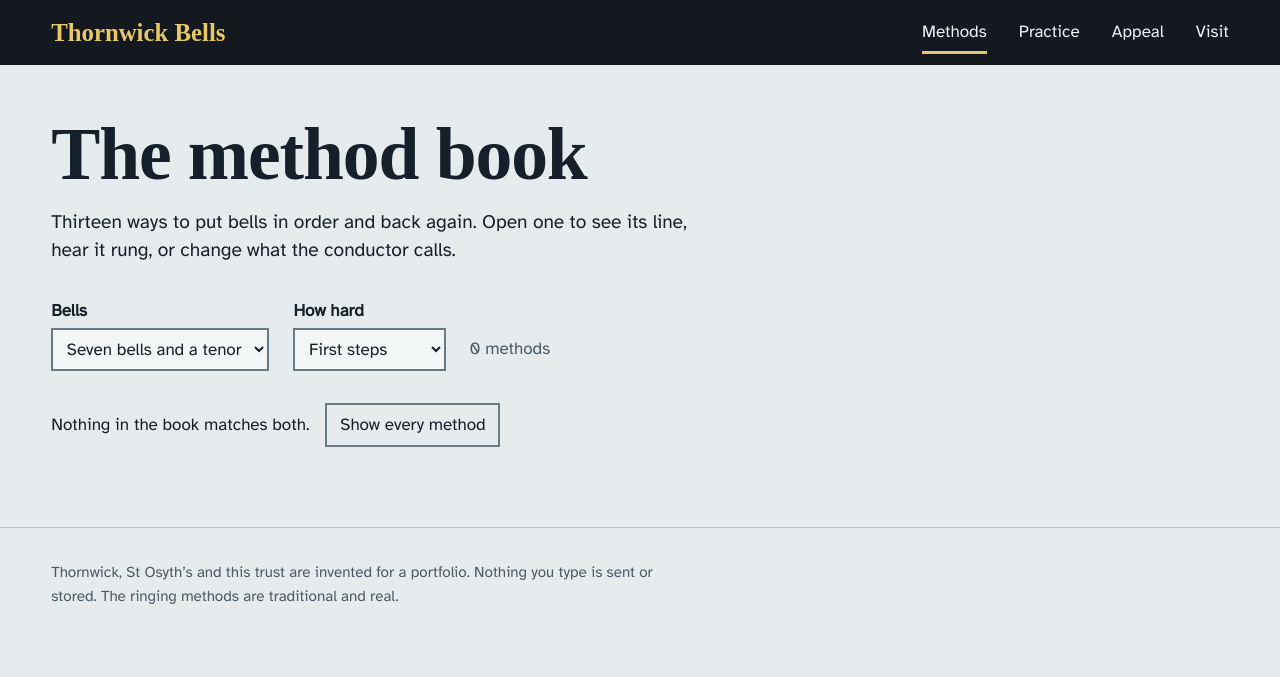
method book › offers a way out of an empty result
The image size is (1280, 677).
Click the button "Show every method": coordinates (413, 425) top-left (326, 403), bottom-right (500, 447)
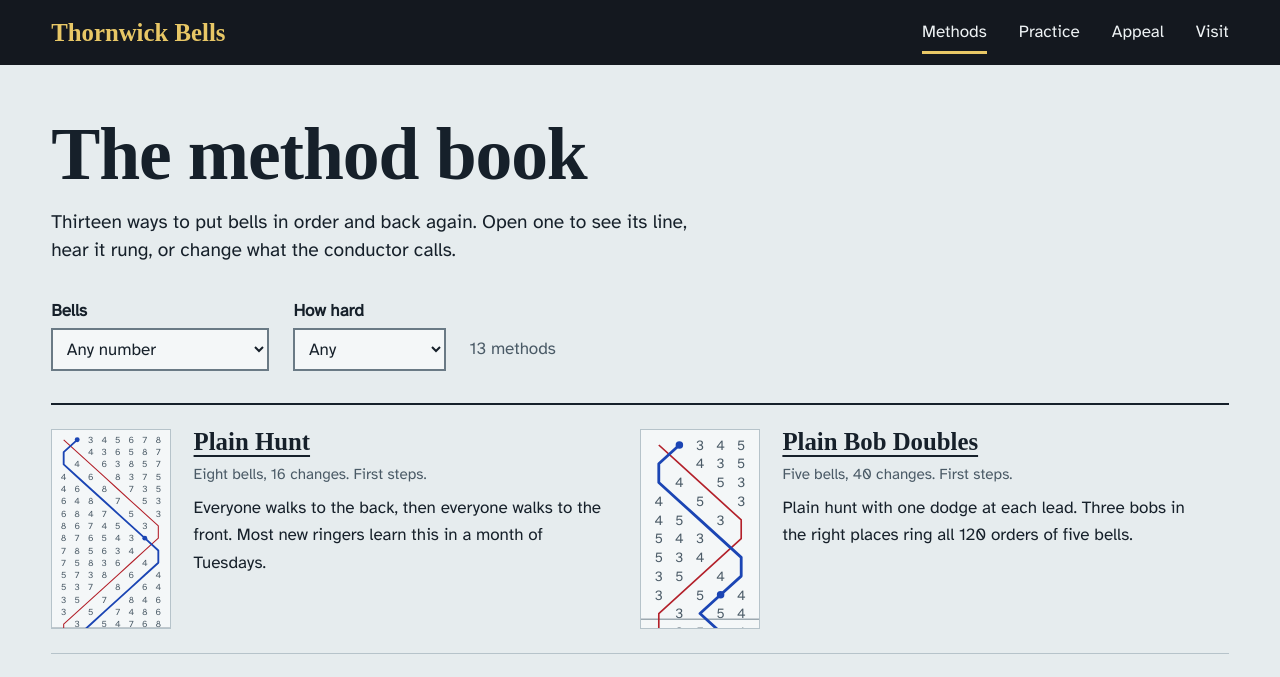
Expected: the text "13 methods" is shown, top-left (470, 338), bottom-right (556, 359)
